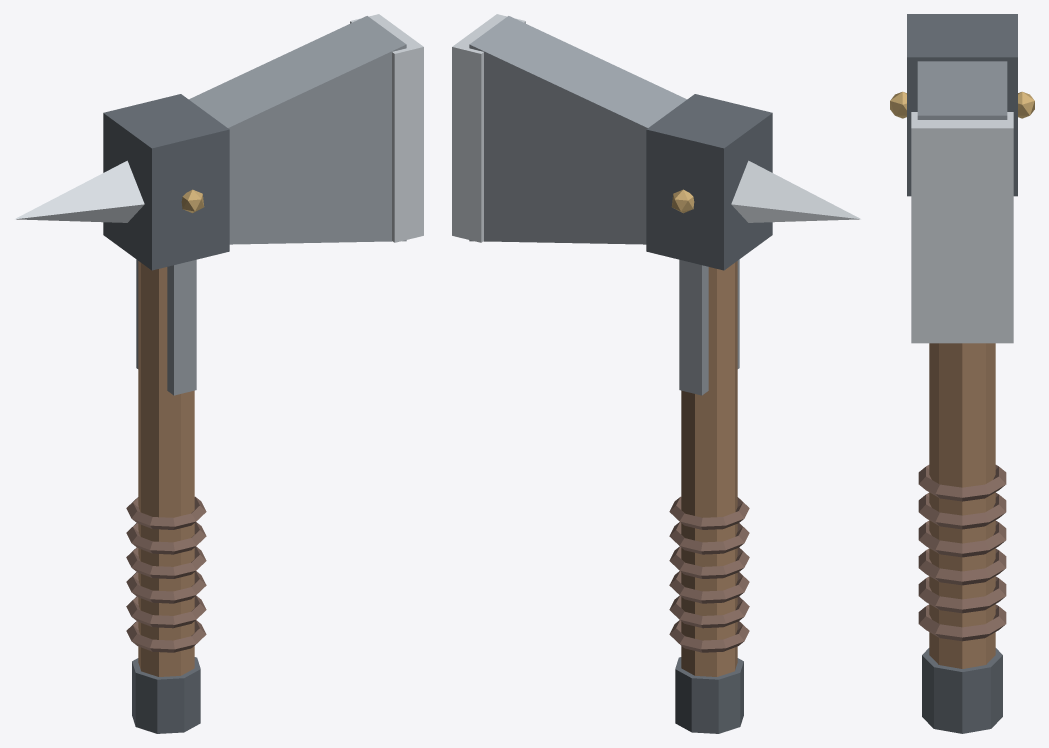
The model's file is two_handed_axe.glb.
The picture shows the model from 3 angles, left to right: view 1: azimuth 30°, elevation 25°; view 2: azimuth 150°, elevation 25°; view 3: azimuth 270°, elevation 25°; orthographic projection. The views are drawn at different scales.
Parts seen in each view (by area): view 1: ChoppingBlade.001, HeadSocket.001, HaftCore.001, ChoppingEdge.001, BackSpike.001, LowerFerrule.001, LangetFront, GripWrap_4.001, GripWrap_2.001, GripWrap_1.001, GripWrap_3.001, GripWrap_5.001 (+1 smaller); view 2: ChoppingBlade.001, HeadSocket.001, HaftCore.001, ChoppingEdge.001, BackSpike.001, LowerFerrule.001, LangetBack, GripWrap_4.001, GripWrap_2.001, GripWrap_1.001, GripWrap_3.001, GripWrap_5.001 (+1 smaller); view 3: ChoppingEdge.001, HaftCore.001, HeadSocket.001, LowerFerrule.001, ChoppingBlade.001, GripWrap_3.001, GripWrap_0.001, GripWrap_1.001, GripWrap_2.001, GripWrap_4.001, GripWrap_5.001, Rivet_0.001 (+1 smaller).
Part boxes in pixels (x1,y1,x2,y2): ChoppingBlade.001: (189,16,406,244); HeadSocket.001: (103,94,229,270); HaftCore.001: (138,261,194,676); ChoppingEdge.001: (350,14,423,242); BackSpike.001: (15,160,144,222); LowerFerrule.001: (132,657,200,733); LangetFront: (167,259,196,395); GripWrap_4.001: (126,522,206,554); GripWrap_2.001: (126,571,206,603); GripWrap_1.001: (126,595,206,628); GripWrap_3.001: (126,546,206,578); GripWrap_5.001: (126,496,206,529); ChoppingBlade.001: (469,16,686,244); HeadSocket.001: (646,94,772,270); HaftCore.001: (681,261,737,676); ChoppingEdge.001: (452,14,525,242); BackSpike.001: (731,160,860,222); LowerFerrule.001: (675,657,743,733); LangetBack: (679,259,708,395); GripWrap_4.001: (669,522,749,554); GripWrap_2.001: (669,571,749,603); GripWrap_1.001: (669,595,749,628); GripWrap_3.001: (669,546,749,578); GripWrap_5.001: (669,496,749,529); ChoppingEdge.001: (911,112,1013,343); HaftCore.001: (929,343,995,668); HeadSocket.001: (907,14,1017,196); LowerFerrule.001: (922,648,1002,733); ChoppingBlade.001: (917,61,1007,119); GripWrap_3.001: (918,520,1006,557); GripWrap_0.001: (918,604,1006,641); GripWrap_1.001: (918,576,1006,613); GripWrap_2.001: (918,548,1006,585); GripWrap_4.001: (918,493,1006,529); GripWrap_5.001: (918,465,1006,501); Rivet_0.001: (890,91,906,118).
Bounding box in the file's own units: 1.2 × 1.87 × 0.3395.
